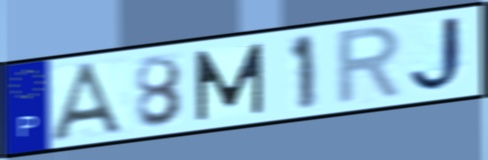1: (285, 32, 320, 115)
8: (134, 54, 185, 130)
A: (46, 58, 131, 143)
J: (407, 12, 471, 97)
M: (192, 40, 266, 124)
R: (333, 22, 406, 110)
